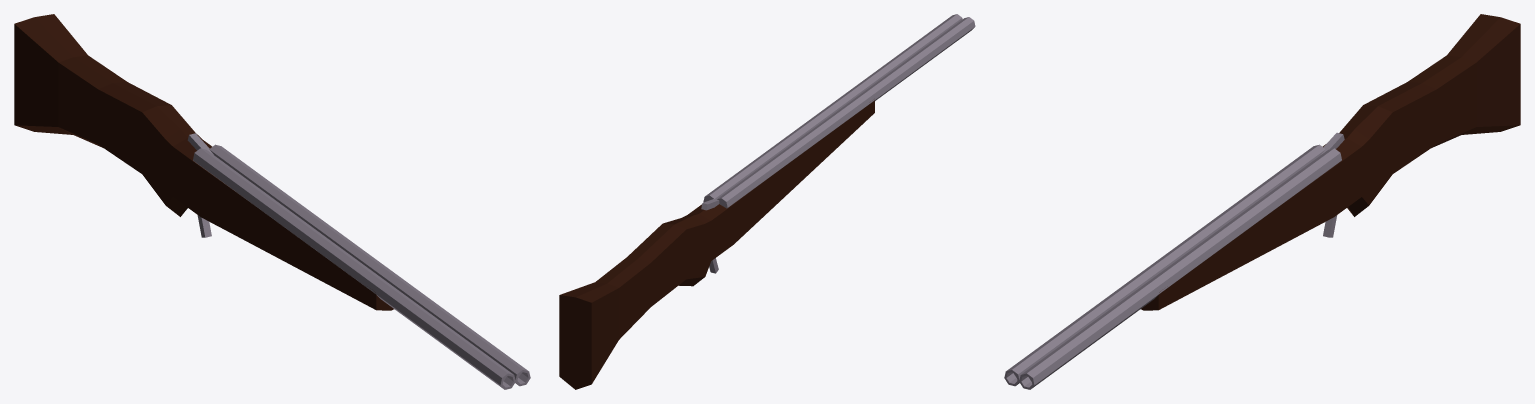
Rendered from Shotgun01.fbx.
3 renders of one model, left to right at view 1: azimuth 30°, elevation 25°; view 2: azimuth 150°, elevation 25°; view 3: azimuth 330°, elevation 25°, orthographic. The views are drawn at different scales.
Visible parts, largest first — view 1: Shotgun01; view 2: Shotgun01; view 3: Shotgun01.
Boxes of the visible parts, box(x1,y1,x2,y2) form: Shotgun01: box(14, 14, 530, 389); Shotgun01: box(559, 14, 975, 389); Shotgun01: box(1004, 14, 1520, 389).
Bounding box in the file's own units: 5.52 × 15.23 × 115.
